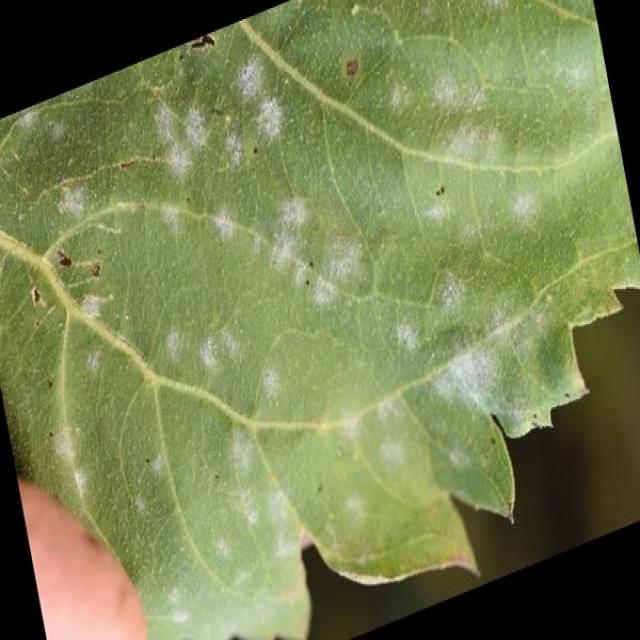Powdery Mildew: (121, 56, 540, 494)
